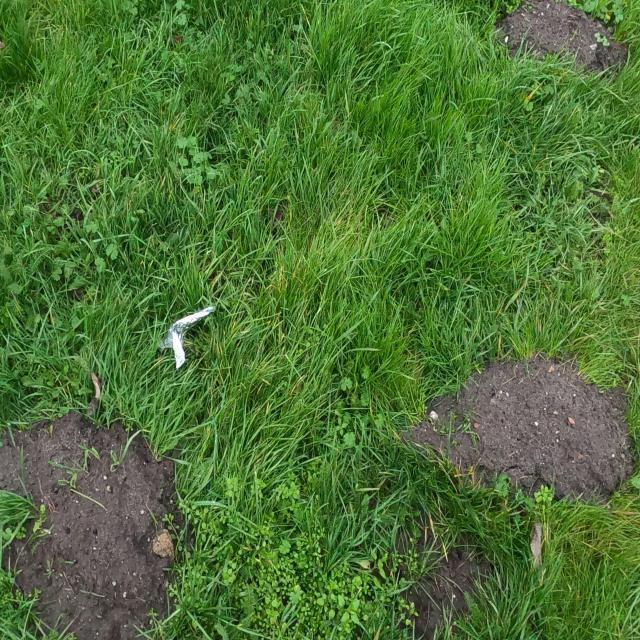Plastic: (157, 304, 218, 370)
